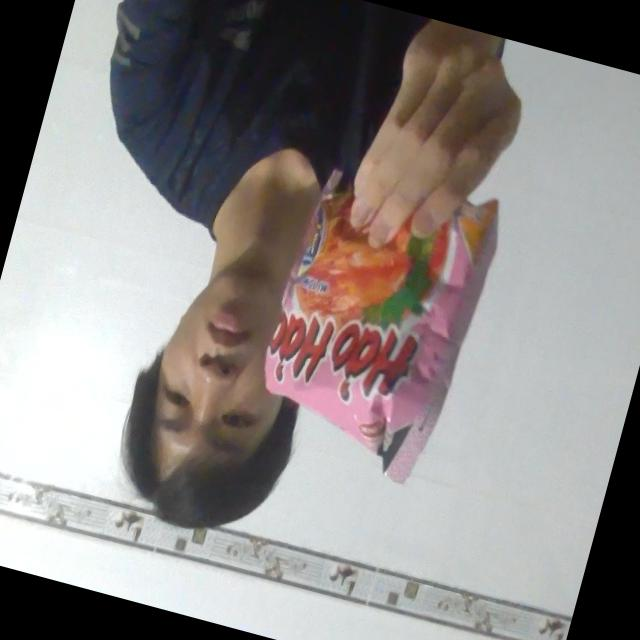mi hao hao: (198, 133, 534, 528)
